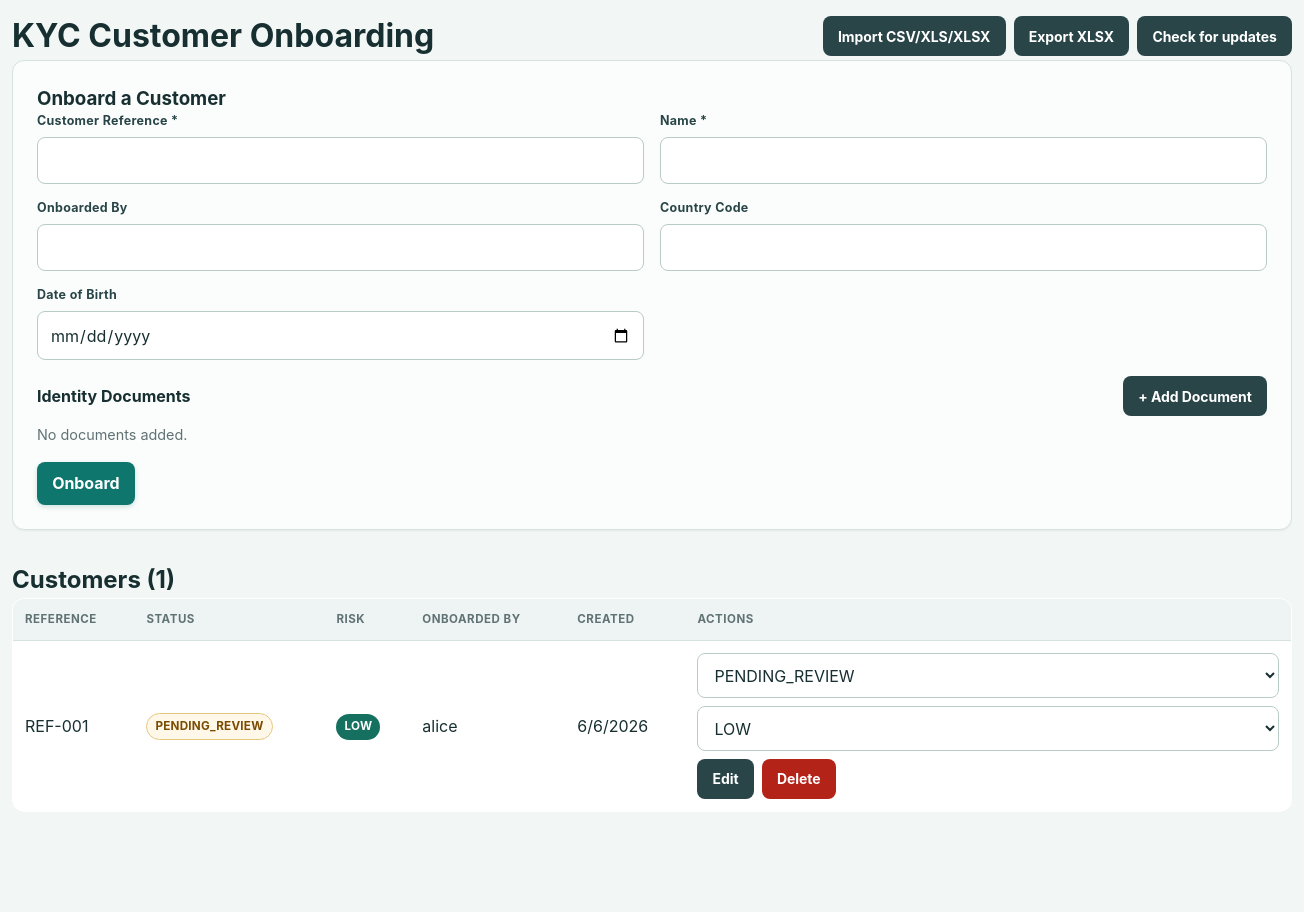
Test: CustomersPage › action error surfaces › surfaces a delete failure
expect the text "REF-001" is shown: met, box x1=12 y1=641 x2=134 y2=812
Click the button "Delete" at (799, 779), box x1=762 y1=759 x2=836 y2=799
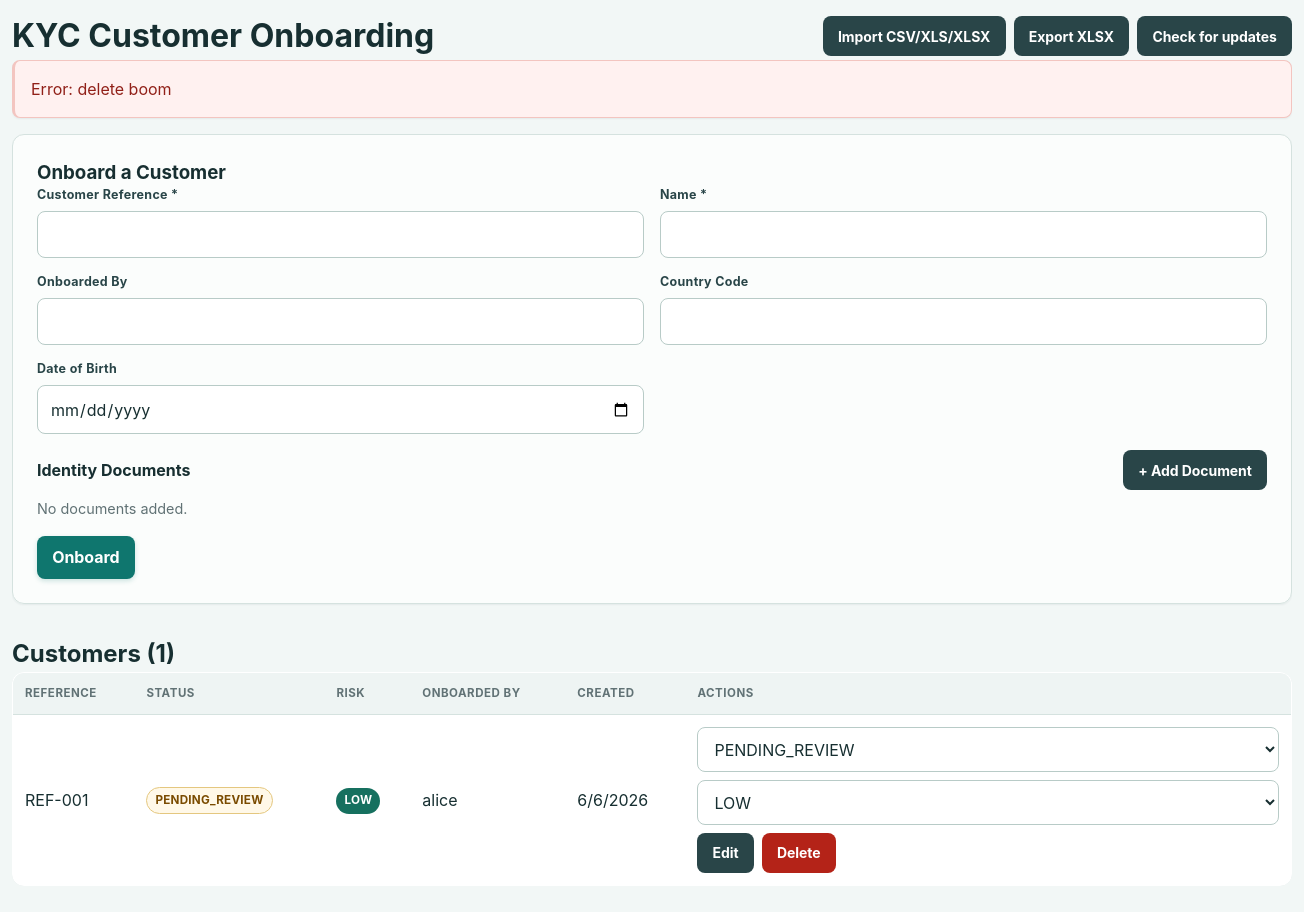
expect the text "Error: delete boom" is shown: met, box x1=12 y1=60 x2=1292 y2=118
